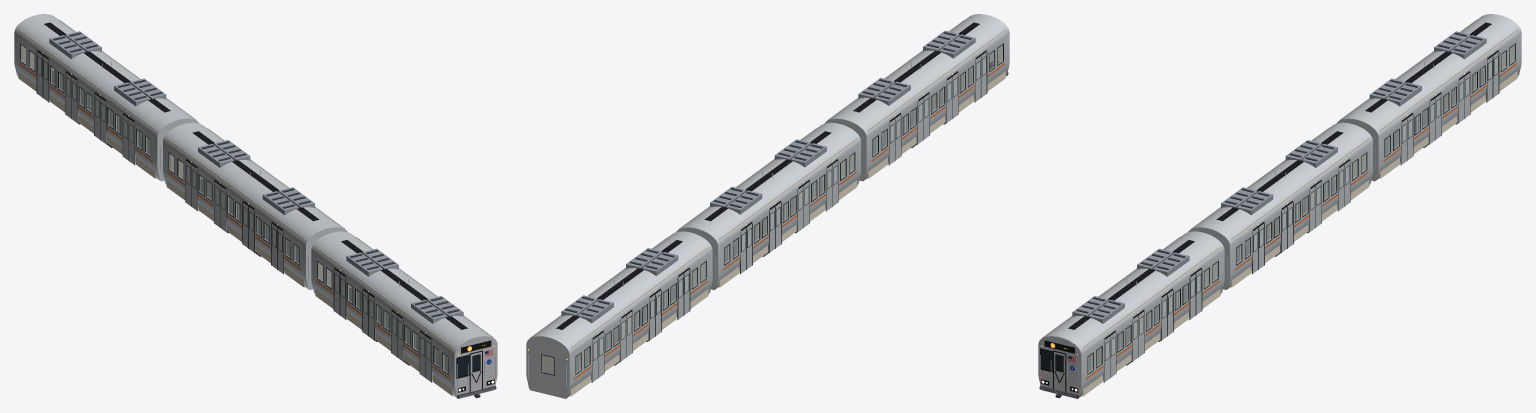
Rendered from train.glb.
3 views of the same model, side by side, from view 1: azimuth 30°, elevation 25°; view 2: azimuth 150°, elevation 25°; view 3: azimuth 330°, elevation 25° (orthographic).
Visible parts, largest first — view 1: car2_body, car1_body, car0_body, car0_trim, car2_trim, car1_trim, car0_interior, car2_interior, car1_interior, car2_glass, car1_glass, car0_glass; view 2: car2_body, car0_body, car1_body, car2_trim, car0_trim, car1_trim, car2_interior, car0_interior, car1_interior, car2_glass, car1_glass, car0_glass; view 3: car2_body, car1_body, car0_body, car0_trim, car2_trim, car1_trim, car0_interior, car2_interior, car1_interior, car2_glass, car1_glass, car0_glass.
Part boxes in pixels (bbox=[...]): car2_body: bbox=[14, 14, 199, 181]; car1_body: bbox=[163, 122, 347, 289]; car0_body: bbox=[311, 231, 497, 397]; car0_trim: bbox=[316, 240, 497, 398]; car2_trim: bbox=[19, 22, 170, 170]; car1_trim: bbox=[167, 131, 319, 279]; car0_interior: bbox=[315, 237, 493, 396]; car2_interior: bbox=[18, 19, 196, 178]; car1_interior: bbox=[166, 128, 344, 287]; car2_glass: bbox=[20, 43, 151, 156]; car1_glass: bbox=[168, 152, 299, 265]; car0_glass: bbox=[317, 261, 448, 374]; car2_body: bbox=[526, 231, 712, 398]; car0_body: bbox=[824, 14, 1009, 181]; car1_body: bbox=[676, 122, 860, 290]; car2_trim: bbox=[528, 240, 707, 387]; car0_trim: bbox=[853, 22, 1008, 170]; car1_trim: bbox=[704, 131, 856, 279]; car2_interior: bbox=[530, 237, 708, 396]; car0_interior: bbox=[827, 19, 1005, 178]; car1_interior: bbox=[679, 128, 857, 287]; car2_glass: bbox=[541, 261, 706, 375]; car1_glass: bbox=[724, 152, 855, 265]; car0_glass: bbox=[872, 43, 1003, 156]; car2_body: bbox=[1336, 14, 1521, 181]; car1_body: bbox=[1188, 122, 1372, 289]; car0_body: bbox=[1038, 231, 1224, 397]; car0_trim: bbox=[1038, 240, 1219, 398]; car2_trim: bbox=[1365, 22, 1516, 170]; car1_trim: bbox=[1216, 131, 1368, 279]; car0_interior: bbox=[1042, 237, 1220, 396]; car2_interior: bbox=[1339, 19, 1517, 178]; car1_interior: bbox=[1191, 128, 1369, 287]; car2_glass: bbox=[1384, 43, 1515, 156]; car1_glass: bbox=[1236, 152, 1367, 265]; car0_glass: bbox=[1087, 261, 1218, 374].
Bounding box in the file's own units: 2.73 × 3.99 × 48.03.
